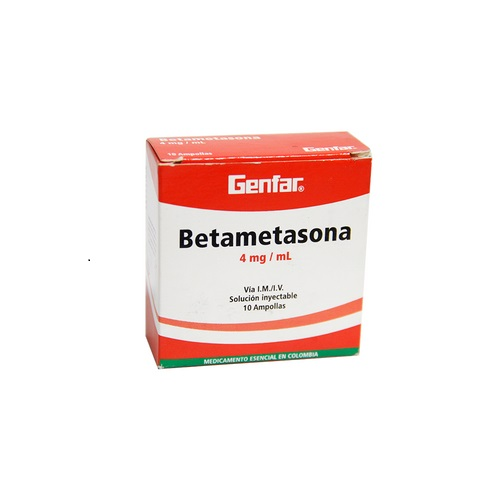Genfar: (162, 164, 368, 368)
